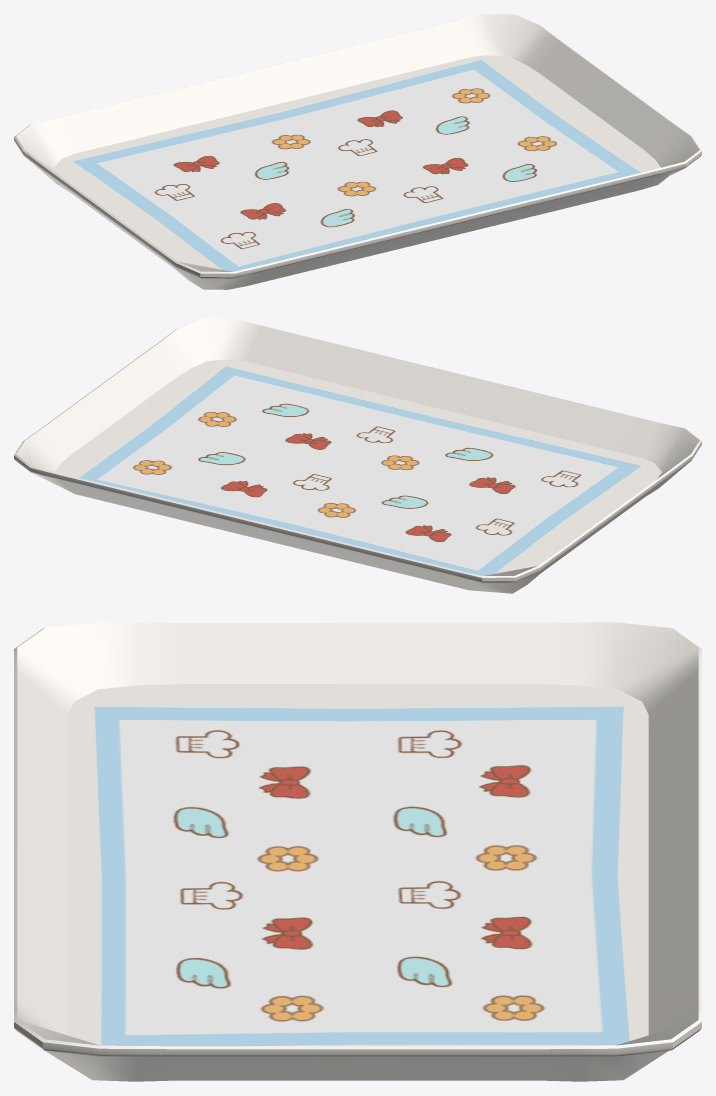
The model's file is Tray.fbx.
3 renders of one model, top to bottom at view 1: azimuth 30°, elevation 25°; view 2: azimuth 150°, elevation 25°; view 3: azimuth 270°, elevation 25°, orthographic. The views are drawn at different scales.
Parts seen in each view (by area): view 1: pCube3; view 2: pCube3; view 3: pCube3.
Boxes of the visible parts, x1,y1,x2,y2 form: pCube3: (14, 14, 701, 289); pCube3: (14, 318, 701, 593); pCube3: (14, 622, 701, 1081).
Size of the model in its own units: 82.06 by 4.87 by 55.98.
1 material, 1 textured.
